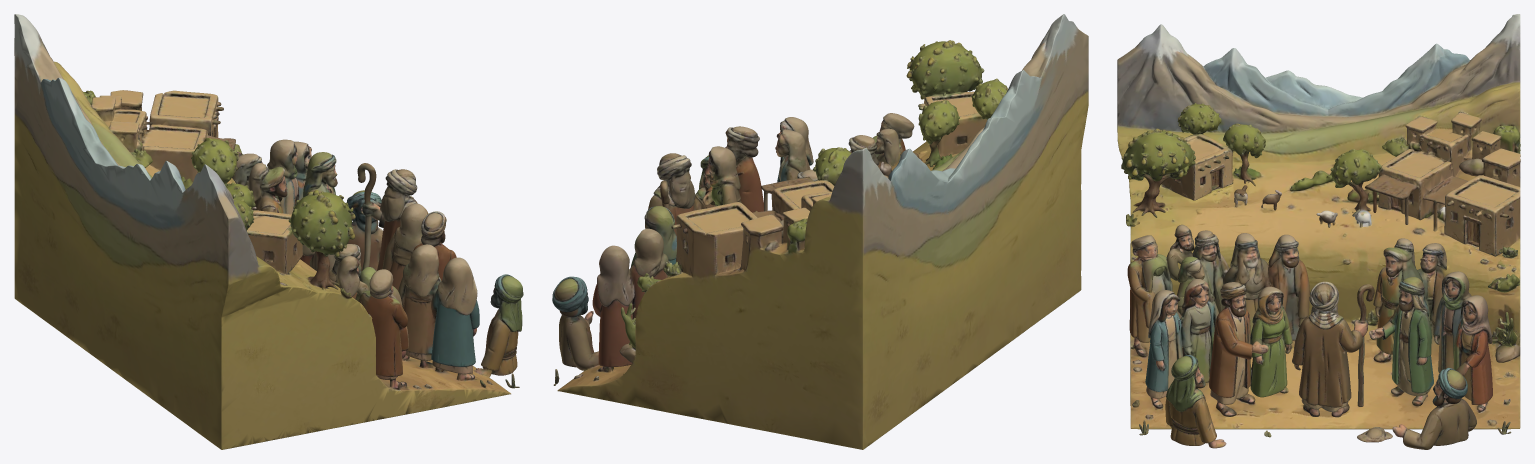
The model's file is page-10.glb.
3 views of the same model, side by side, from view 1: azimuth 30°, elevation 25°; view 2: azimuth 150°, elevation 25°; view 3: azimuth 270°, elevation 25° (orthographic). The views are drawn at different scales.
Visible parts, largest first — view 1: tripo_node_aee6e1e6-3dca-42e8-b28c-a7bc758f2c03; view 2: tripo_node_aee6e1e6-3dca-42e8-b28c-a7bc758f2c03; view 3: tripo_node_aee6e1e6-3dca-42e8-b28c-a7bc758f2c03.
Boxes of the visible parts, x1,y1,x2,y2 form: tripo_node_aee6e1e6-3dca-42e8-b28c-a7bc758f2c03: [14, 14, 523, 449]; tripo_node_aee6e1e6-3dca-42e8-b28c-a7bc758f2c03: [552, 14, 1088, 449]; tripo_node_aee6e1e6-3dca-42e8-b28c-a7bc758f2c03: [1117, 14, 1520, 449].
Bounding box in the file's own units: 0.9072 × 0.7762 × 1.
Materials: 1 (1 with a texture image).
